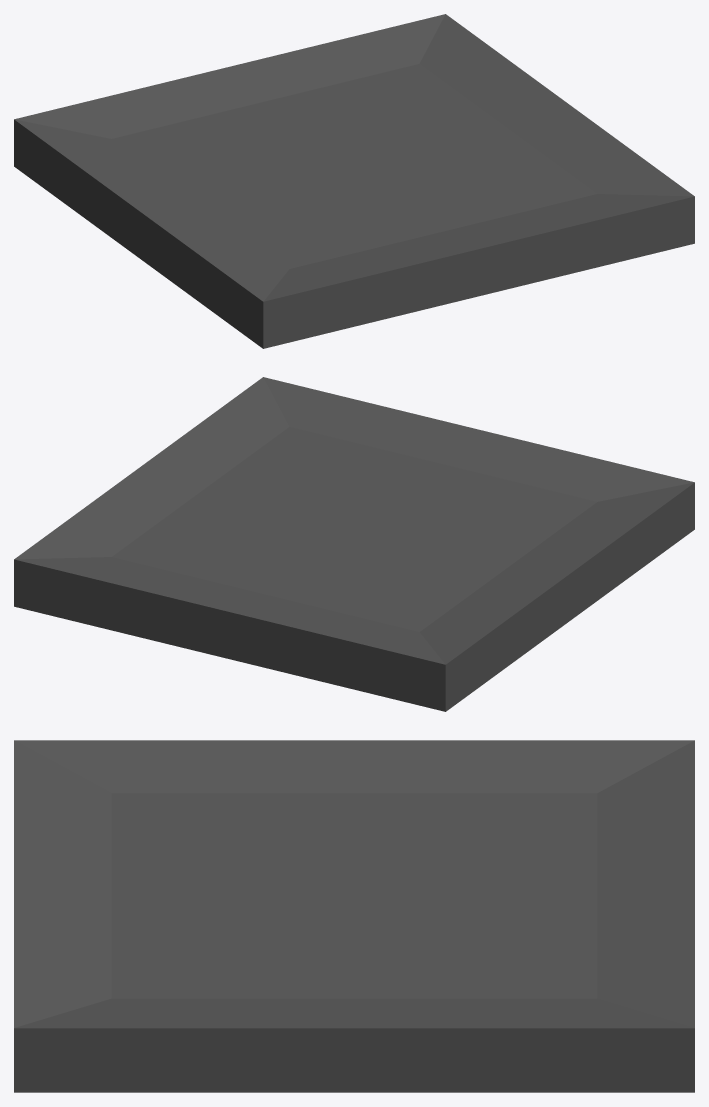
File: Itr_Chair1_Seat_04.FBX
3 renders of one model, top to bottom at view 1: azimuth 30°, elevation 25°; view 2: azimuth 150°, elevation 25°; view 3: azimuth 270°, elevation 25°, orthographic. The views are drawn at different scales.
Parts seen in each view (by area): view 1: Itr_Chair1_Seat_04; view 2: Itr_Chair1_Seat_04; view 3: Itr_Chair1_Seat_04.
Part boxes in pixels (box(x1,y1,x2,y2)): Itr_Chair1_Seat_04: box(14, 14, 694, 348); Itr_Chair1_Seat_04: box(14, 377, 694, 711); Itr_Chair1_Seat_04: box(14, 740, 694, 1092).
Bounding box in the file's own units: 23.52 × 2.9 × 23.52.
